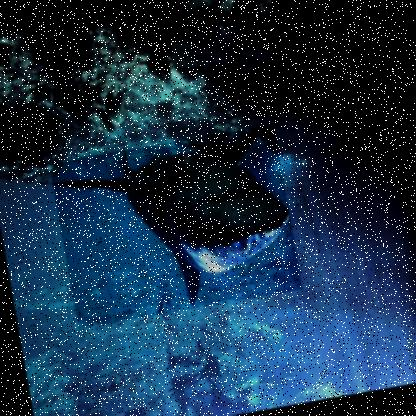bulldog-shark: (47, 122, 302, 328)
